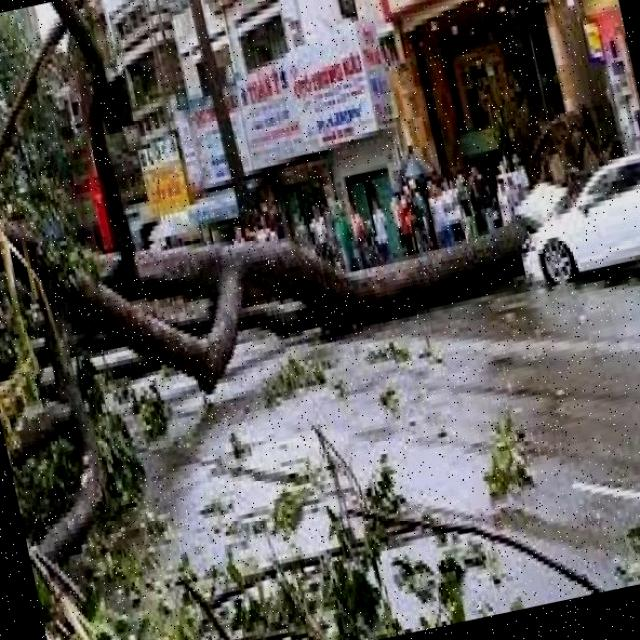fallen_object: (0, 15, 605, 480)
